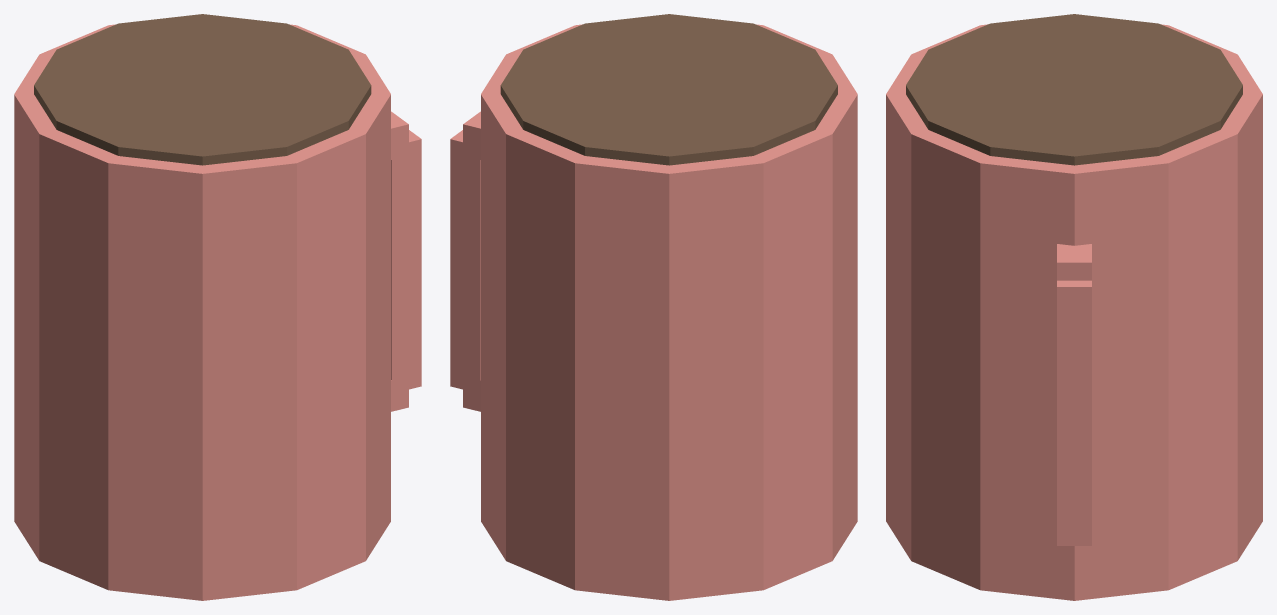
File: mug.glb
3 renders of one model, left to right at view 1: azimuth 30°, elevation 25°; view 2: azimuth 150°, elevation 25°; view 3: azimuth 270°, elevation 25°, orthographic.
Parts seen in each view (by area): view 1: mug; view 2: mug; view 3: mug.
Part boxes in pixels (bbox=[...]): mug: bbox=[14, 14, 421, 600]; mug: bbox=[450, 14, 857, 600]; mug: bbox=[886, 14, 1262, 600].
Bounding box in the file's own units: 0.087 × 0.097 × 0.076.
